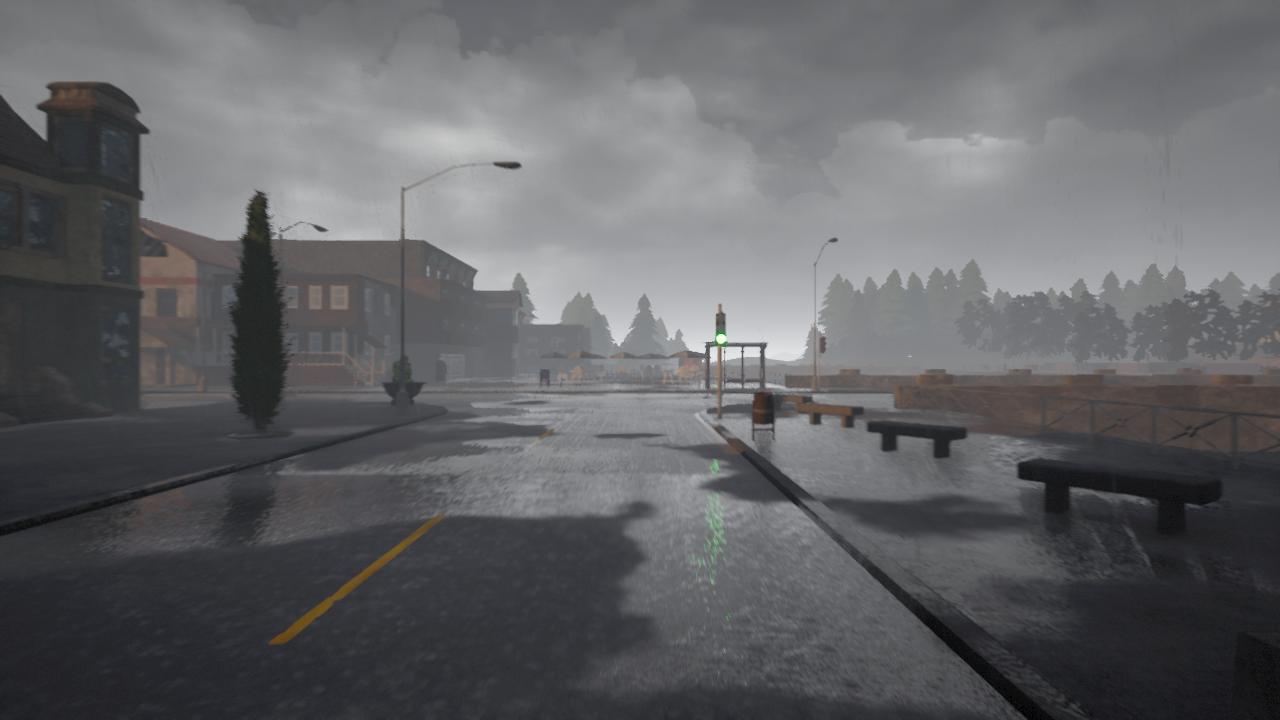green: (714, 312, 726, 346)
